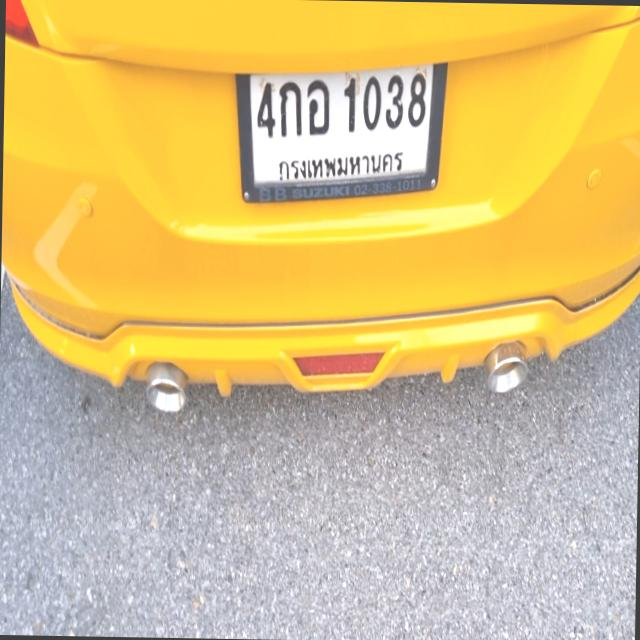license_plate: (230, 47, 451, 210)
